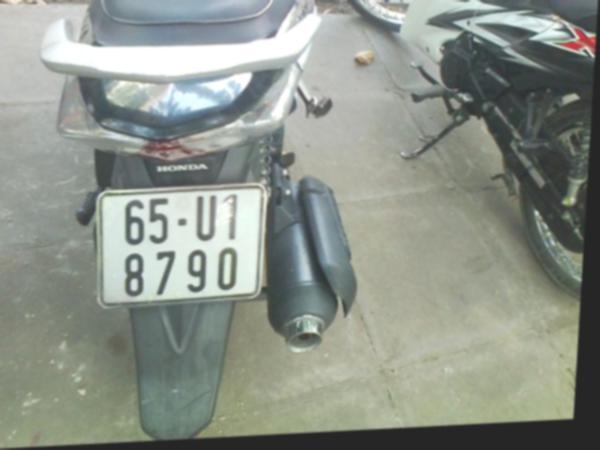License_Plate: (96, 187, 263, 304)
